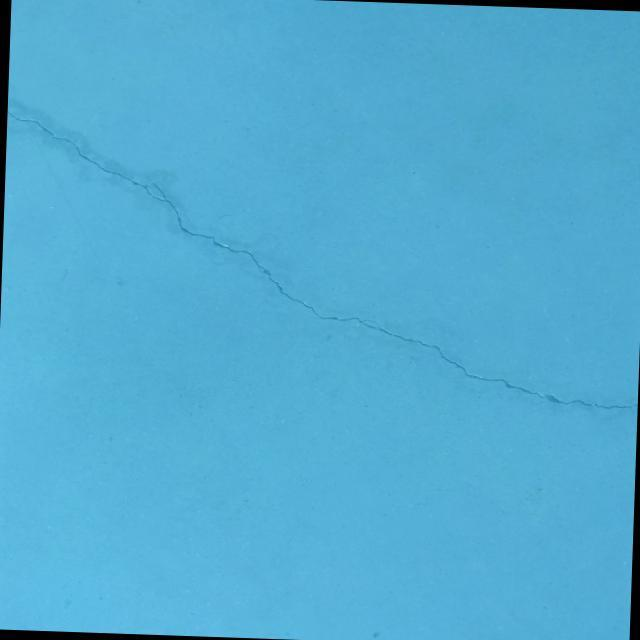crack: (0, 108, 640, 409)
